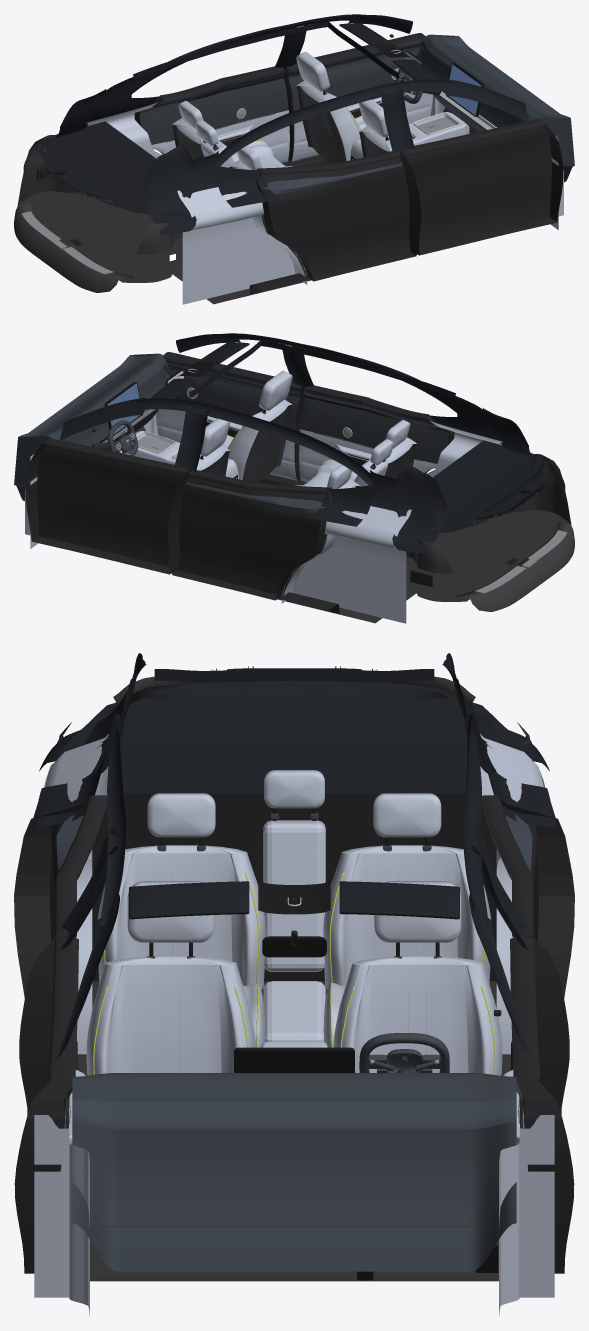
Rendered from xpeng-mona-l05-interior.glb.
3 renders of one model, top to bottom at view 1: azimuth 30°, elevation 25°; view 2: azimuth 150°, elevation 25°; view 3: azimuth 270°, elevation 25°, orthographic. The views are drawn at different scales.
Visible parts, largest first — view 1: XpengMonaL05_Cabin, int_door_R, int_rdoor_R, int_rdoor_L, int_parcel_shelf, int_cpillar, int_door_L, int_headliner, int_qtr_lower, screen_main, int_tailgate, int_rear_sill; view 2: XpengMonaL05_Cabin, int_door_L, int_rdoor_L, int_rdoor_R, int_parcel_shelf, int_cpillar, int_door_R, int_headliner, int_qtr_lower, screen_main, int_tailgate, int_rear_sill; view 3: XpengMonaL05_Cabin, int_parcel_shelf, int_door_L, int_door_R, int_rdoor_L, int_rdoor_R, int_rear_sill, int_qtr_lower, int_headliner, int_cpillar, int_tailgate, int_cpillar_flange.
Part boxes in pixels (left/top/right/bottom): XpengMonaL05_Cabin: left=14, top=14, right=574, bottom=304; int_door_R: left=400, top=119, right=563, bottom=255; int_rdoor_R: left=256, top=151, right=418, bottom=281; int_rdoor_L: left=134, top=66, right=289, bottom=162; int_parcel_shelf: left=38, top=121, right=190, bottom=216; int_cpillar: left=43, top=89, right=218, bottom=235; int_door_L: left=283, top=33, right=432, bottom=161; int_headliner: left=100, top=19, right=399, bottom=103; int_qtr_lower: left=127, top=96, right=277, bottom=207; screen_main: left=449, top=64, right=481, bottom=115; int_tailgate: left=23, top=135, right=138, bottom=241; int_rear_sill: left=45, top=143, right=109, bottom=195; XpengMonaL05_Cabin: left=14, top=333, right=574, bottom=623; int_door_L: left=25, top=438, right=188, bottom=574; int_rdoor_L: left=170, top=470, right=332, bottom=600; int_rdoor_R: left=299, top=385, right=454, bottom=481; int_parcel_shelf: left=398, top=440, right=550, bottom=535; int_cpillar: left=370, top=408, right=545, bottom=554; int_door_R: left=156, top=352, right=305, bottom=480; int_headliner: left=189, top=338, right=488, bottom=422; int_qtr_lower: left=311, top=415, right=461, bottom=526; screen_main: left=107, top=383, right=139, bottom=434; int_tailgate: left=450, top=454, right=565, bottom=560; int_rear_sill: left=479, top=462, right=543, bottom=514; XpengMonaL05_Cabin: left=26, top=715, right=562, bottom=1315; int_parcel_shelf: left=59, top=668, right=529, bottom=793; int_door_L: left=503, top=937, right=574, bottom=1273; int_door_R: left=14, top=937, right=85, bottom=1273; int_rdoor_L: left=482, top=795, right=574, bottom=1115; int_rdoor_R: left=14, top=795, right=106, bottom=1115; int_rear_sill: left=141, top=680, right=447, bottom=698; int_qtr_lower: left=32, top=747, right=556, bottom=829; int_headliner: left=128, top=669, right=460, bottom=735; int_cpillar: left=39, top=653, right=549, bottom=771; int_tailgate: left=98, top=666, right=490, bottom=715; int_cpillar_flange: left=92, top=713, right=496, bottom=773.
Bounding box in the file's own units: 3.56 × 1.22 × 1.86.
Materials: 32 (2 with a texture image).
